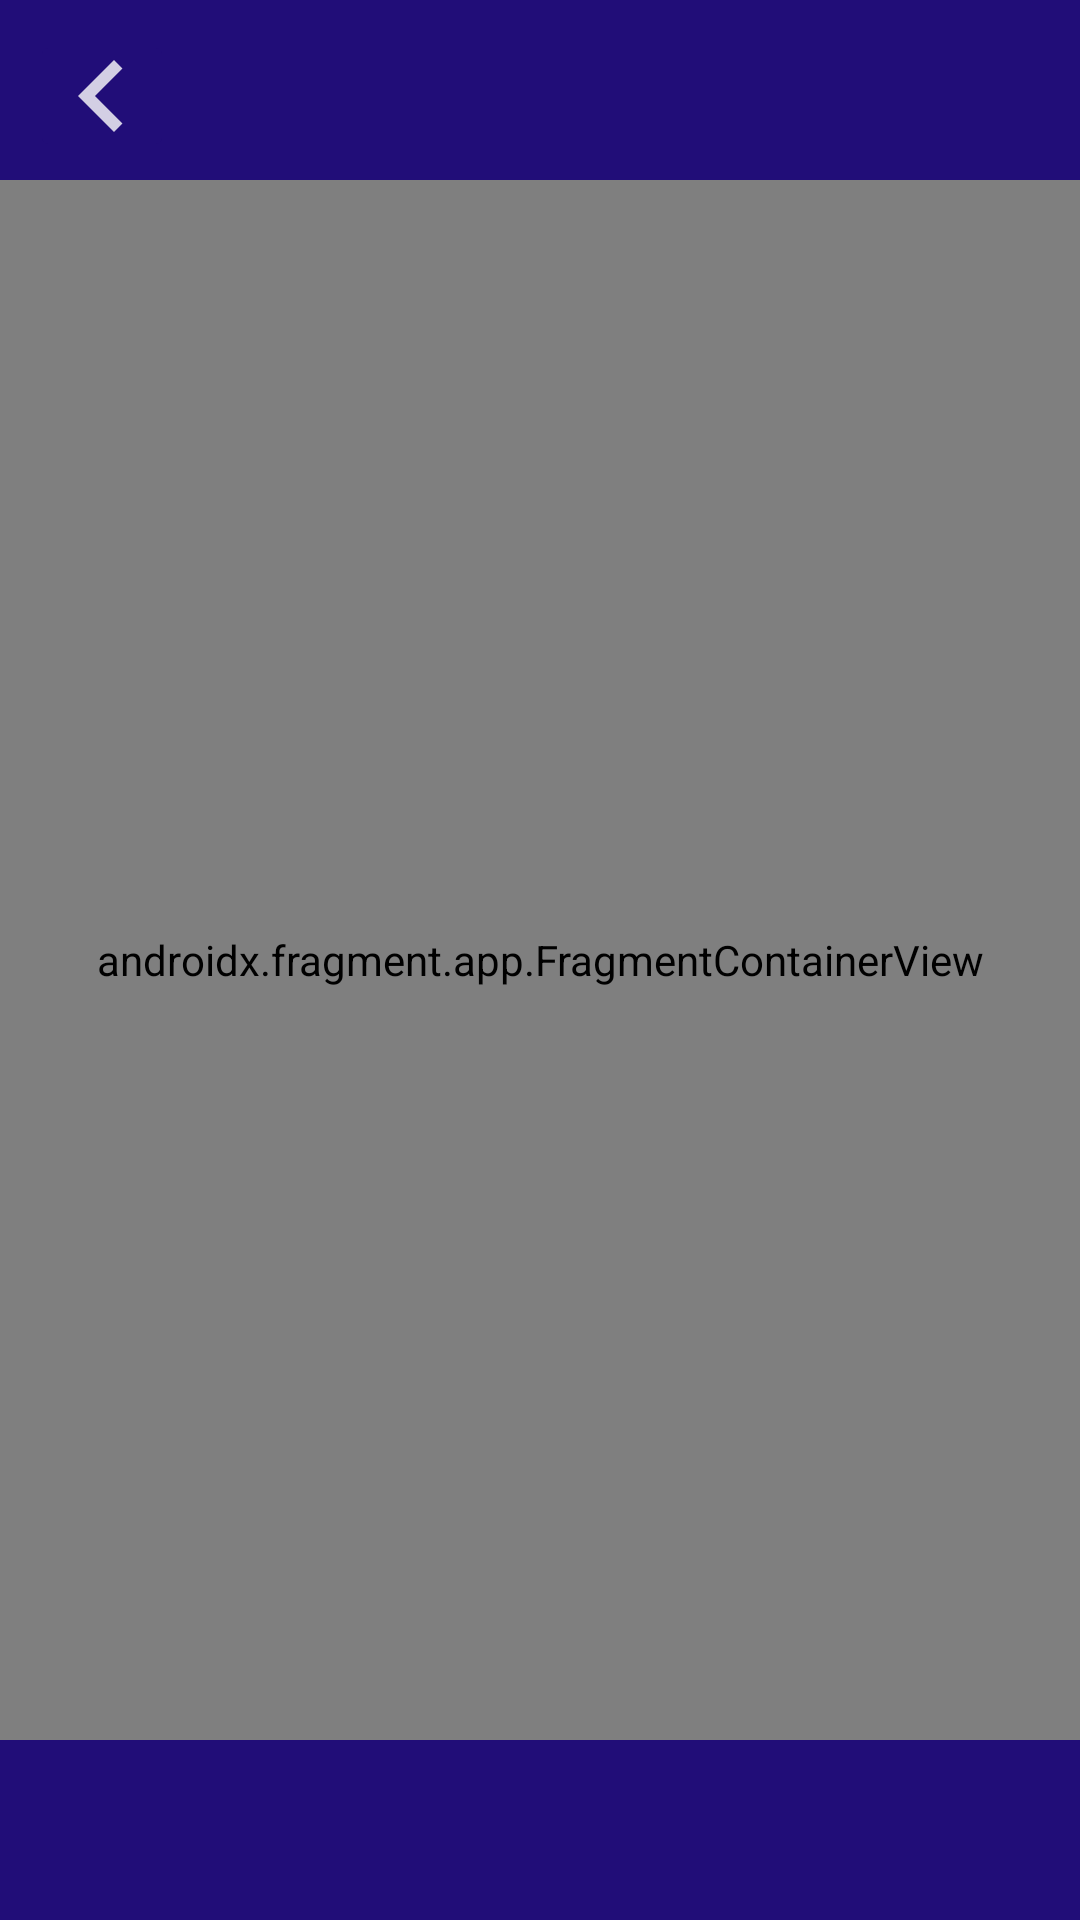

Point at icon controls on the screen. Image size 1080px x 1920px, points as (x=x, y=y).
Voltar: (x=100, y=96)
